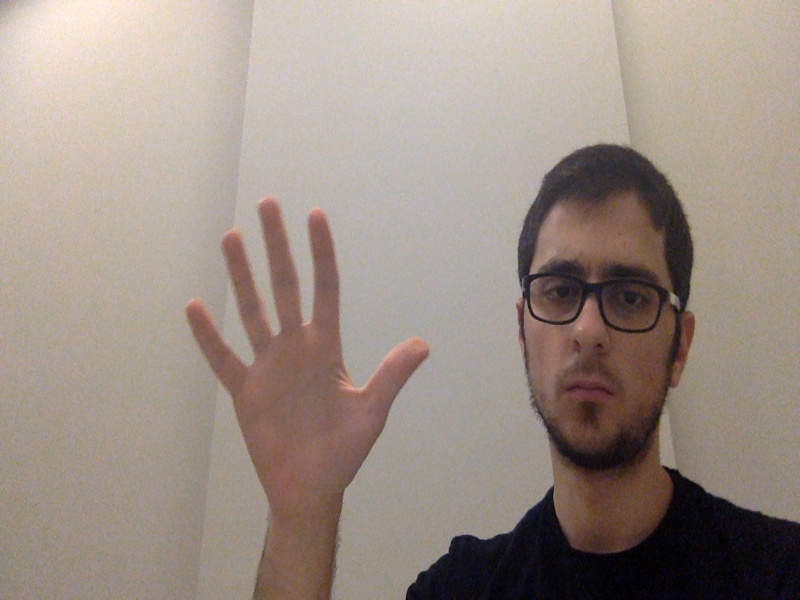5-hand: (185, 198, 435, 505)
